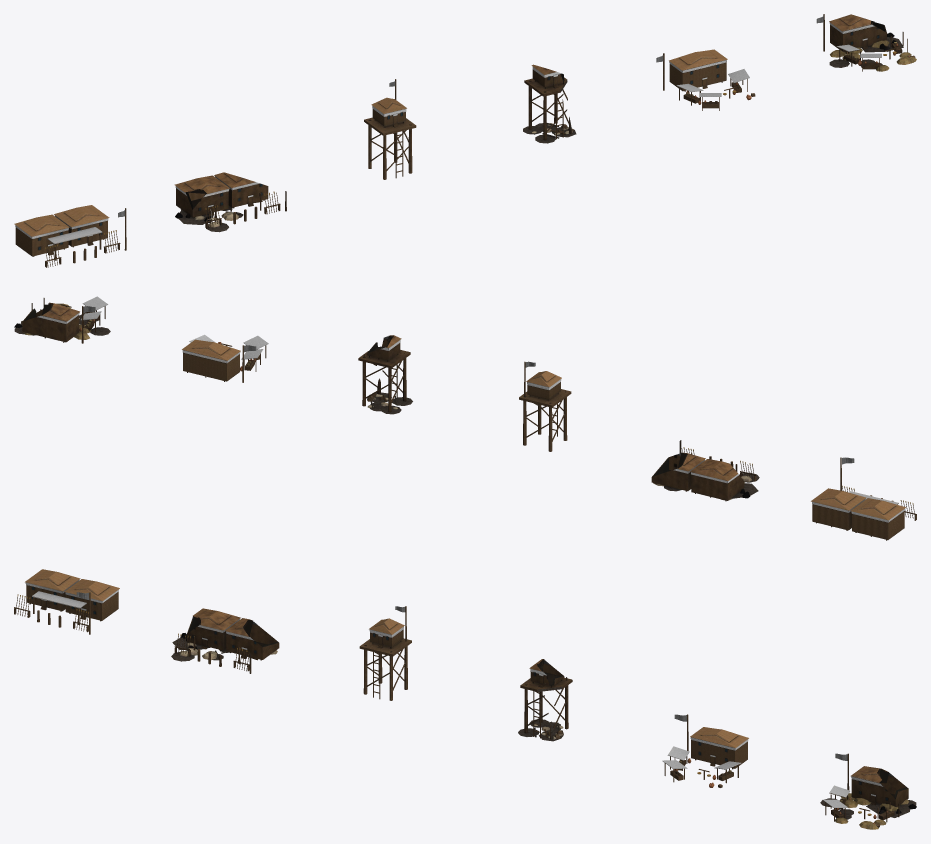
The model's file is rts-kingdoms-monsoon.glb.
3 views of the same model, one above another, from view 1: azimuth 30°, elevation 25°; view 2: azimuth 150°, elevation 25°; view 3: azimuth 330°, elevation 25° (orthographic).
Visible parts, largest first — view 1: LOD0.001, LOD0, LOD0.005, LOD0.004, LOD0.002, LOD0.003; view 2: LOD0, LOD0.001, LOD0.005, LOD0.004, LOD0.003, LOD0.002; view 3: LOD0.001, LOD0, LOD0.005, LOD0.004, LOD0.003, LOD0.002.
Part boxes in pixels (bbox=[...]): LOD0.001: bbox=[174, 172, 286, 232]; LOD0: bbox=[14, 205, 126, 267]; LOD0.005: bbox=[816, 14, 916, 71]; LOD0.004: bbox=[656, 49, 755, 110]; LOD0.002: bbox=[364, 79, 416, 179]; LOD0.003: bbox=[523, 64, 576, 143]; LOD0: bbox=[811, 457, 916, 540]; LOD0.001: bbox=[651, 440, 759, 501]; LOD0.005: bbox=[14, 296, 110, 343]; LOD0.004: bbox=[182, 334, 268, 382]; LOD0.003: bbox=[358, 335, 412, 414]; LOD0.002: bbox=[519, 361, 571, 451]; LOD0.001: bbox=[171, 608, 279, 673]; LOD0: bbox=[14, 569, 119, 634]; LOD0.005: bbox=[820, 753, 916, 829]; LOD0.004: bbox=[662, 714, 748, 787]; LOD0.003: bbox=[518, 659, 572, 741]; LOD0.002: bbox=[359, 606, 411, 700].
Size of what is drawn, in the model's own units: 16.4 by 1.48 by 1.38.
Materials: 2 (2 with a texture image).
